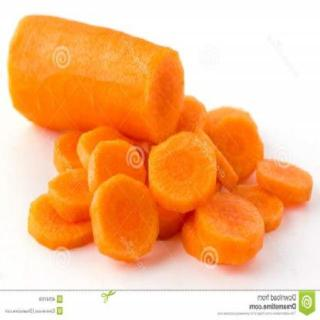carrot: (7, 11, 187, 147)
